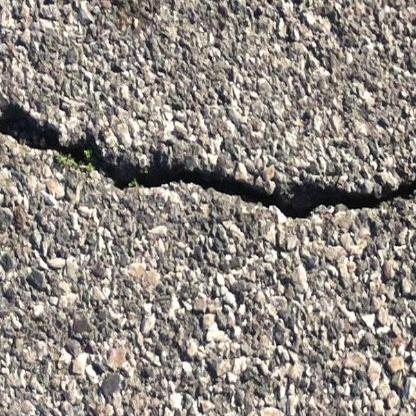Cracks: (0, 100, 416, 224)
